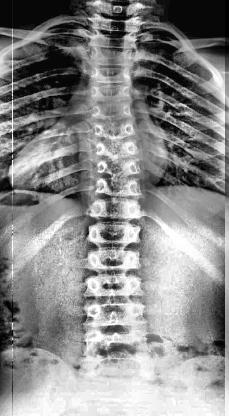Vertebrae: (82, 296, 150, 328), (82, 326, 148, 358), (82, 272, 144, 298), (86, 219, 142, 247), (86, 246, 142, 274), (89, 10, 145, 36), (87, 196, 143, 220), (93, 175, 143, 199), (90, 118, 138, 142), (88, 64, 134, 87), (88, 46, 136, 68), (94, 137, 142, 159), (88, 30, 140, 50), (96, 156, 142, 178), (90, 100, 132, 122), (89, 84, 133, 104)
